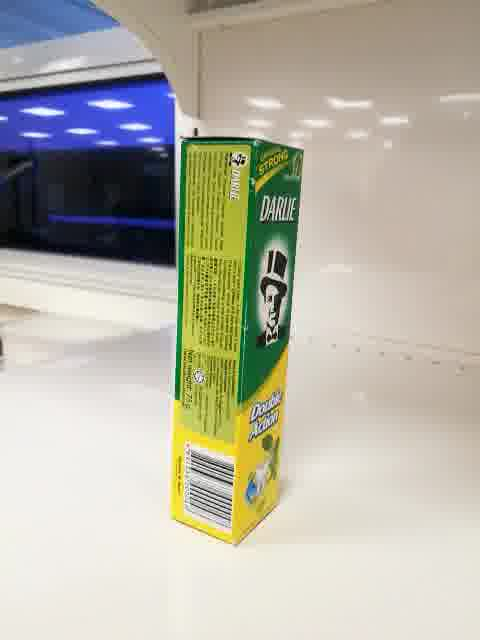toothpaste: (171, 137, 304, 547)
